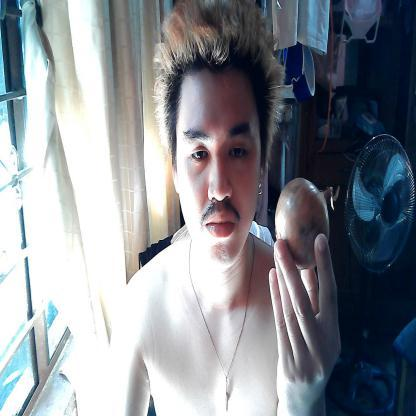onion: (273, 158, 332, 270)
